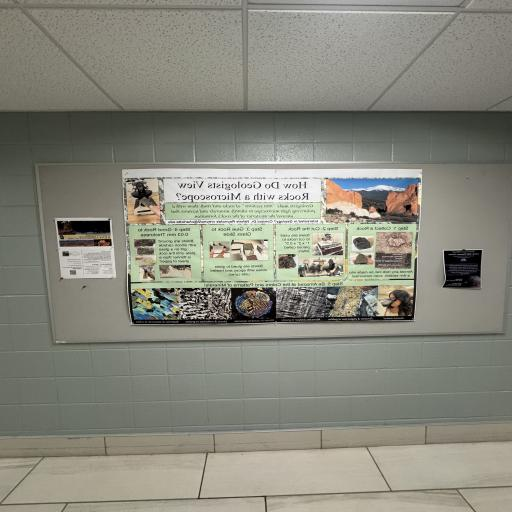poster board: (29, 160, 512, 342)
